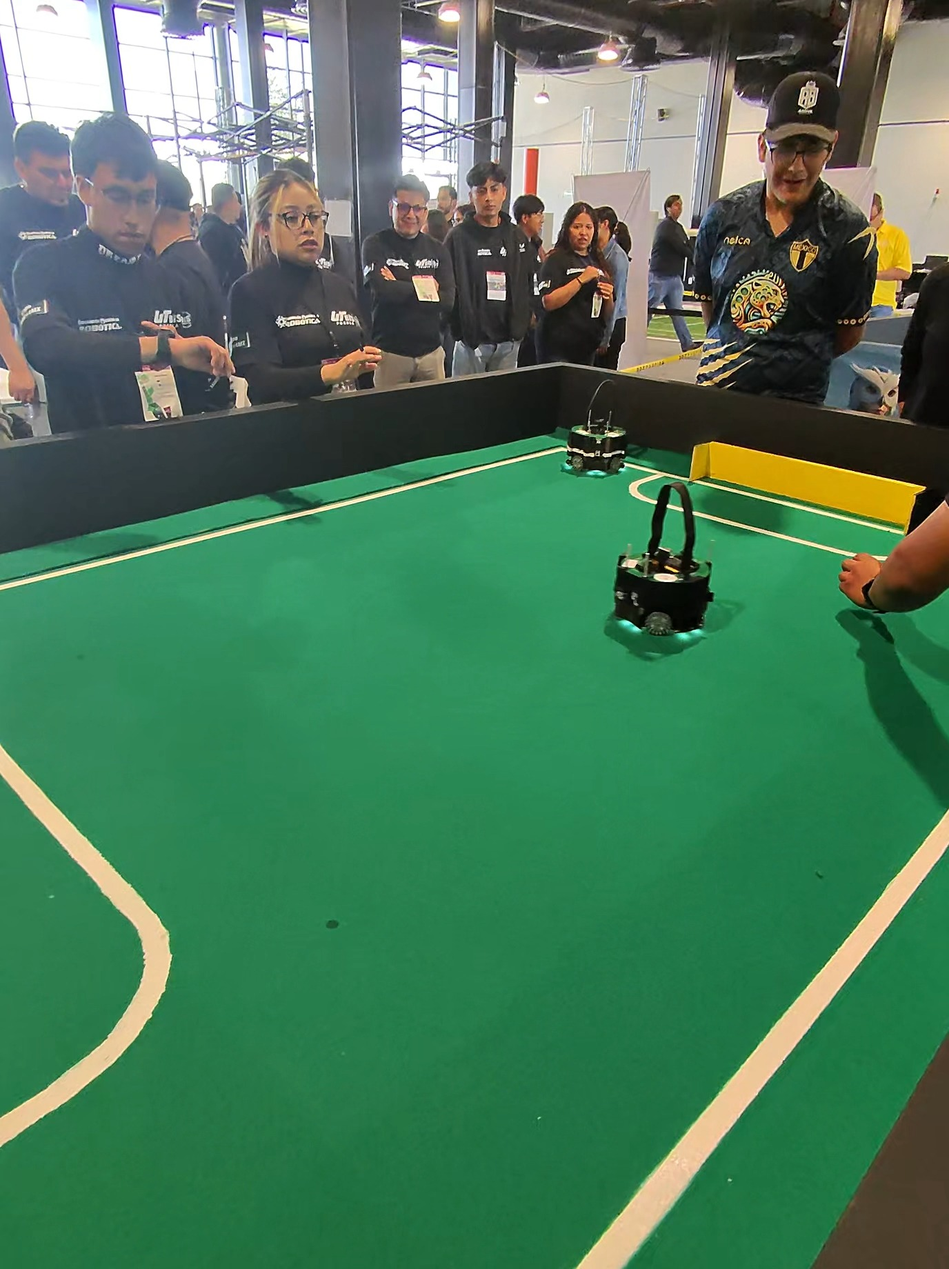Robot: (587, 469, 759, 657), (560, 371, 638, 501)
